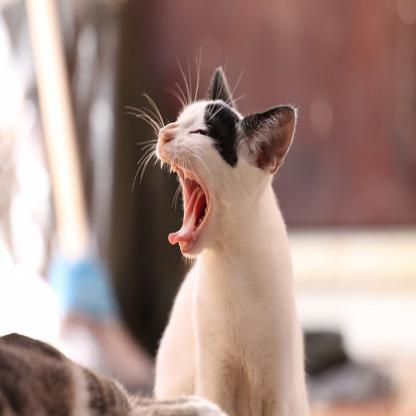cat: (133, 66, 304, 412)
